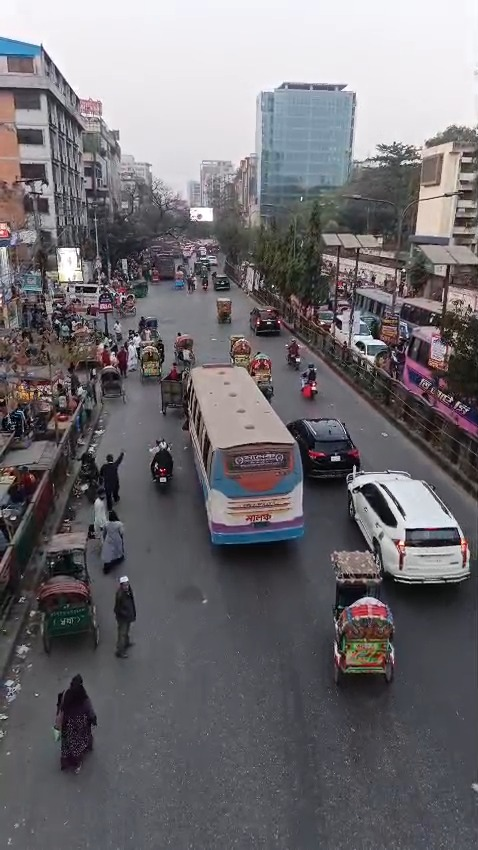Bikes: (138, 439, 189, 508)
Bus: (182, 357, 319, 560)
auto-ricksaw: (326, 543, 409, 701), (30, 531, 111, 664), (134, 343, 170, 398)
private car: (338, 461, 478, 587), (280, 399, 373, 488), (244, 297, 293, 346)
